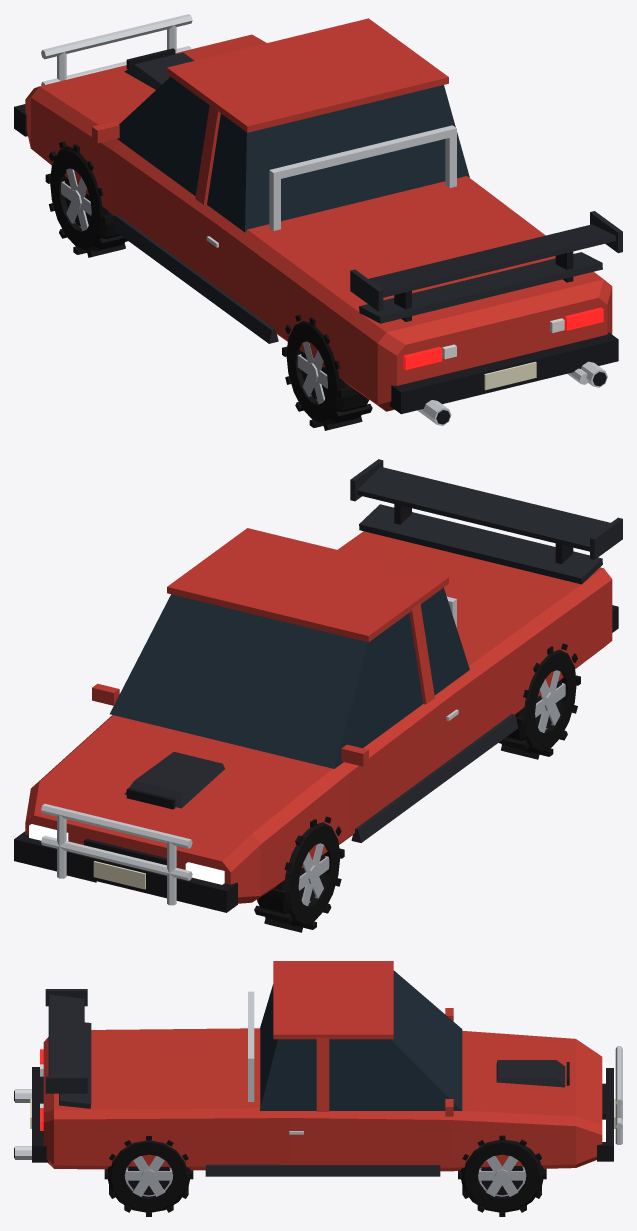
Rendered from pickup.glb.
The picture shows the model from 3 angles, top to bottom: view 1: azimuth 30°, elevation 25°; view 2: azimuth 150°, elevation 25°; view 3: azimuth 270°, elevation 25°; orthographic projection. The views are drawn at different scales.
Visible parts, largest first — view 1: pickup_Body, pickup_Top, pickup_Mod_Spoiler2, pickup_Wheel_RL, pickup_Wheel_FL, pickup_Mod_Spoiler1, pickup_Mod_Skirts, pickup_Mod_Bullbar, pickup_Mod_Scoop, pickup_Mod_Exhaust; view 2: pickup_Top, pickup_Body, pickup_Mod_Spoiler2, pickup_Mod_Spoiler1, pickup_Wheel_FL, pickup_Wheel_RL, pickup_Mod_Bullbar, pickup_Mod_Scoop, pickup_Mod_Skirts; view 3: pickup_Body, pickup_Top, pickup_Wheel_FR, pickup_Wheel_RR, pickup_Mod_Spoiler2, pickup_Mod_Skirts, pickup_Mod_Scoop, pickup_Mod_Spoiler1, pickup_Mod_Bullbar, pickup_Mod_Exhaust.
Boxes of the visible parts, box(x1,y1,x2,y2) form: pickup_Body: box(25, 34, 612, 411); pickup_Top: box(14, 18, 618, 414); pickup_Mod_Spoiler2: box(350, 211, 622, 321); pickup_Wheel_RL: box(282, 314, 372, 430); pickup_Wheel_FL: box(45, 141, 127, 257); pickup_Mod_Spoiler1: box(359, 252, 602, 323); pickup_Mod_Skirts: box(112, 214, 278, 343); pickup_Mod_Bullbar: box(41, 14, 192, 85); pickup_Mod_Scoop: box(124, 48, 194, 89); pickup_Mod_Exhaust: box(417, 361, 607, 425); pickup_Top: box(14, 528, 618, 912); pickup_Body: box(25, 531, 612, 903); pickup_Mod_Spoiler2: box(350, 459, 622, 563); pickup_Mod_Spoiler1: box(359, 504, 602, 584); pickup_Wheel_FL: box(254, 816, 344, 932); pickup_Wheel_RL: box(498, 643, 580, 759); pickup_Mod_Bullbar: box(41, 803, 192, 905); pickup_Mod_Scoop: box(124, 752, 224, 809); pickup_Mod_Skirts: box(351, 714, 518, 842); pickup_Body: box(43, 1028, 602, 1171); pickup_Top: box(30, 961, 615, 1162); pickup_Wheel_FR: box(458, 1135, 546, 1216); pickup_Wheel_RR: box(104, 1136, 193, 1216); pickup_Mod_Spoiler2: box(45, 989, 87, 1093); pickup_Mod_Skirts: box(205, 1164, 440, 1176); pickup_Mod_Scoop: box(496, 1060, 569, 1087); pickup_Mod_Spoiler1: box(59, 1022, 91, 1108); pickup_Mod_Bullbar: box(615, 1046, 622, 1144); pickup_Mod_Exhaust: box(14, 1089, 31, 1159).
Size of the model in its own units: 2.22 by 1.83 by 5.78.
